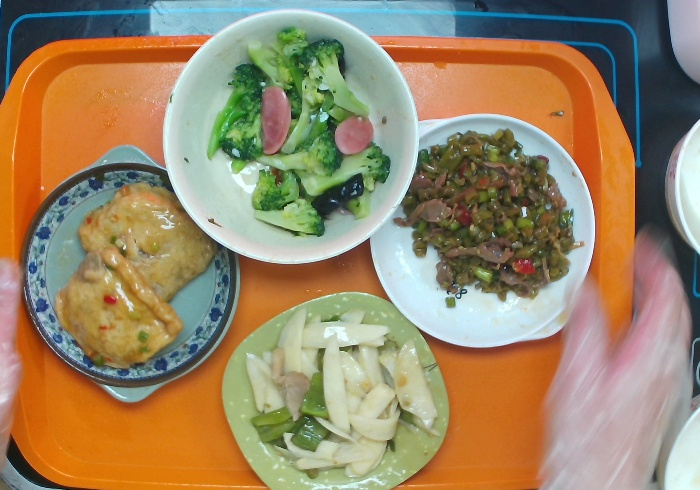NLDX-Bai_Se_Shuang_Er_Die: (362, 107, 599, 357)
NLDX-Bai_Se_Yuan_Wan: (157, 4, 427, 269)
NLDX-Lv_Hua_Fang_Die: (220, 288, 453, 490)
NLDX-Qing_Hua_Shuang_Er_Die: (19, 134, 249, 410)
